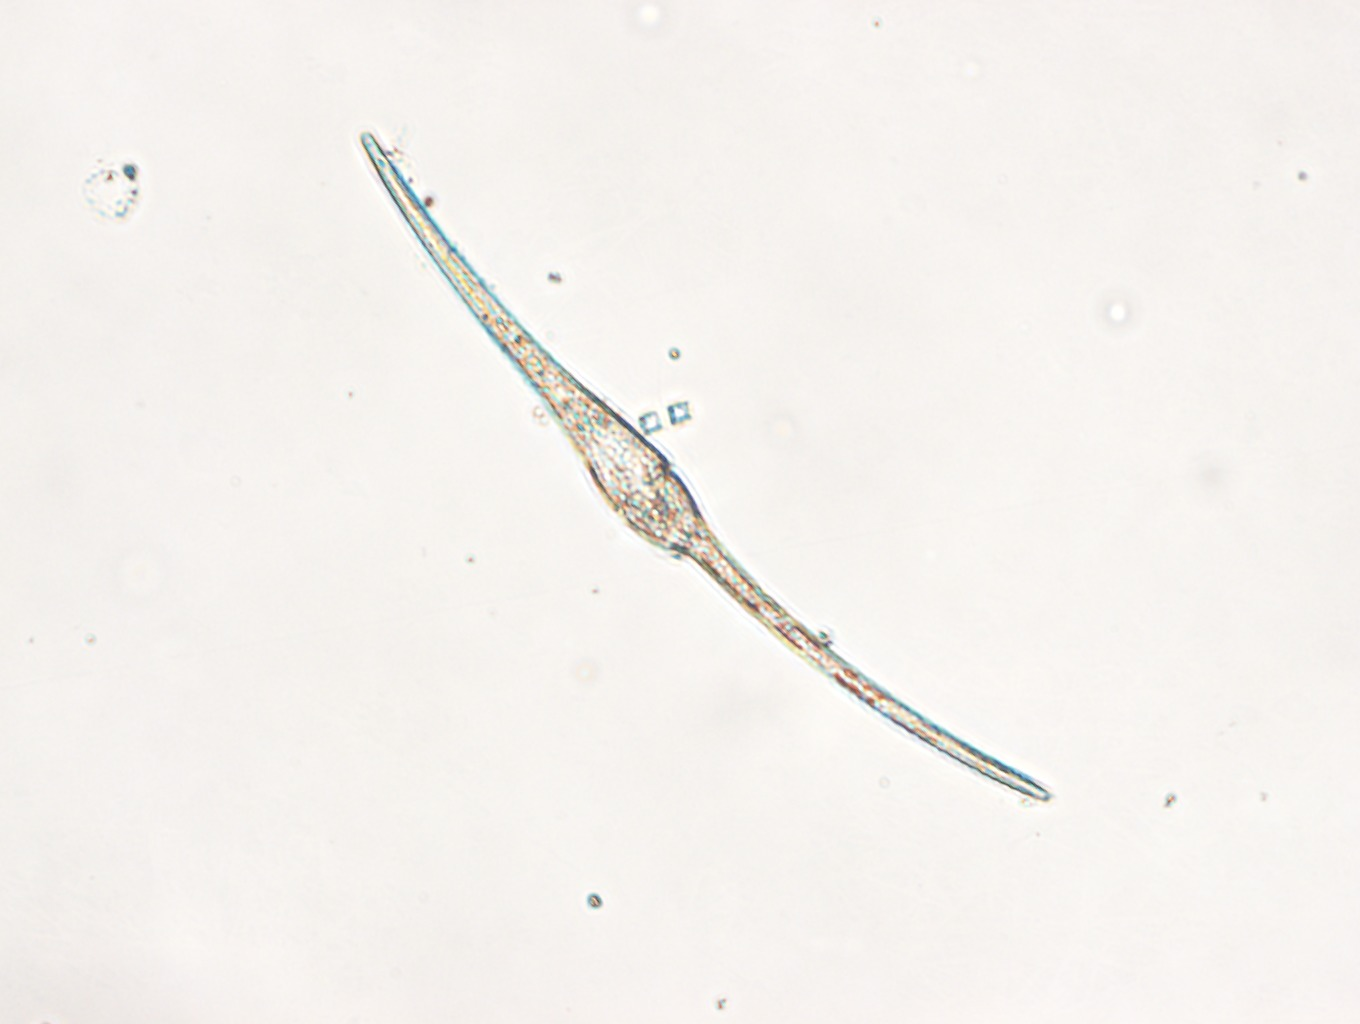ceratium fusus: (350, 127, 1053, 807)
